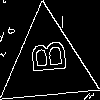B: (22, 38, 66, 76)
